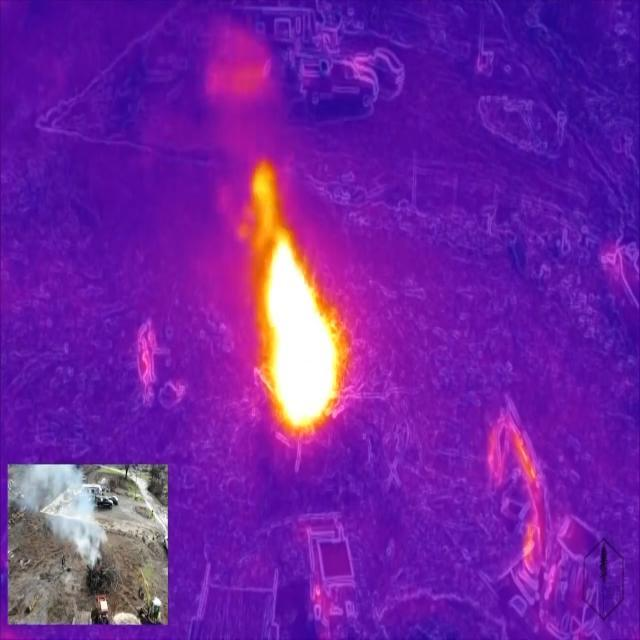fire: (254, 178, 344, 435)
